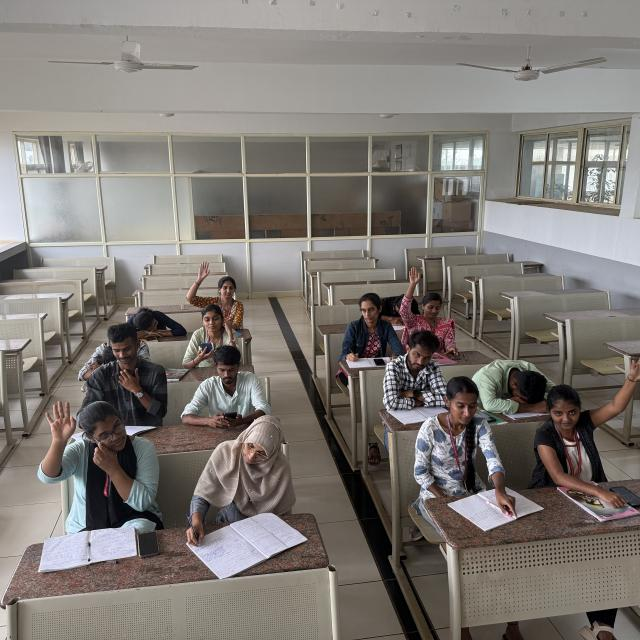Hand Rising: (28, 394, 165, 530), (533, 361, 638, 506), (395, 264, 456, 348), (185, 255, 246, 319)
Reading: (413, 375, 509, 517), (379, 328, 442, 426)
Sleeping: (475, 353, 558, 417), (124, 305, 187, 340)
Using Phone: (181, 343, 268, 433), (177, 304, 241, 370)
Writing: (182, 414, 301, 568), (79, 326, 167, 436), (340, 294, 397, 363)
